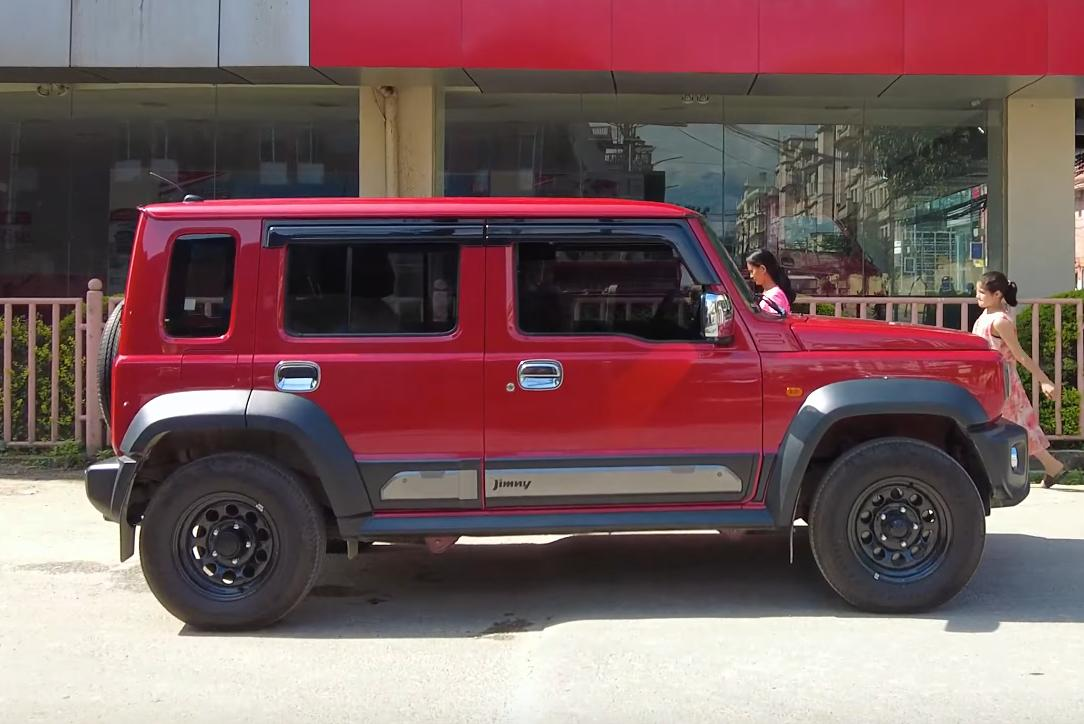SUV: (87, 190, 1057, 623)
